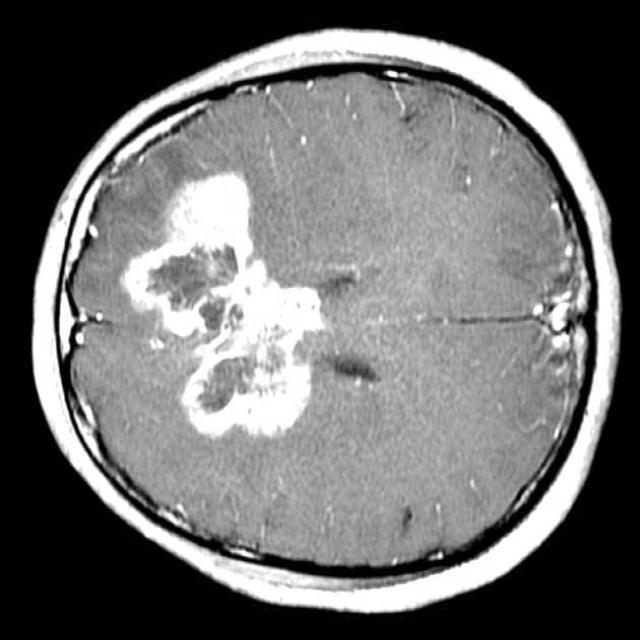tumor: (125, 173, 324, 436)
